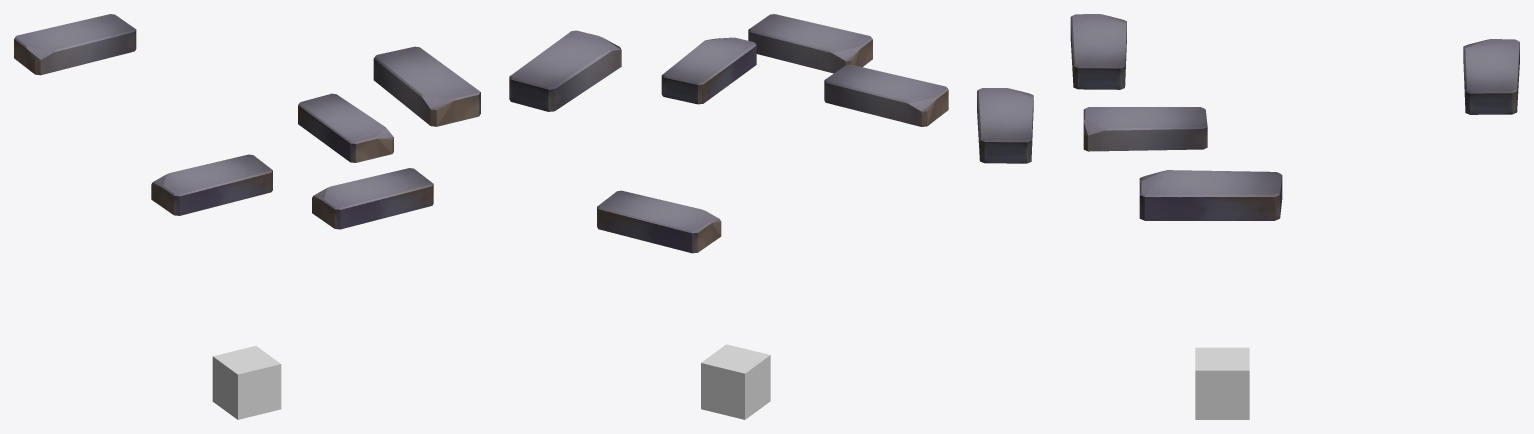
File: home-floor013.fbx
3 views of the same model, side by side, from view 1: azimuth 30°, elevation 25°; view 2: azimuth 150°, elevation 25°; view 3: azimuth 270°, elevation 25° (orthographic). The views are drawn at different scales.
Visible parts, largest first — view 1: Cube.006, Cube.013, Cube.005, Cube.010, home-floor013, Cube.004; view 2: Cube.006, Cube.005, Cube.013, Cube.010, home-floor013, Cube.004; view 3: Cube.006, Cube.004, Cube.010, Cube.005, Cube.013, home-floor013.
Boxes of the visible parts, box(x1,y1,x2,y2) form: Cube.006: box(373, 46, 480, 126); Cube.013: box(14, 14, 136, 75); Cube.005: box(151, 154, 272, 215); Cube.010: box(312, 168, 433, 229); home-floor013: box(212, 346, 281, 419); Cube.004: box(298, 93, 393, 162); Cube.006: box(509, 30, 621, 111); Cube.005: box(824, 64, 948, 126); Cube.013: box(597, 190, 721, 253); Cube.010: box(748, 14, 872, 73); home-floor013: box(701, 344, 770, 419); Cube.004: box(661, 37, 756, 104); Cube.006: box(1139, 170, 1282, 220); Cube.004: box(1083, 107, 1207, 151); Cube.010: box(977, 88, 1033, 163); Cube.005: box(1070, 14, 1126, 89); Cube.013: box(1463, 39, 1519, 114); home-floor013: box(1195, 347, 1249, 419).
Bounding box in the file's own units: 874 × 733 × 1114.
